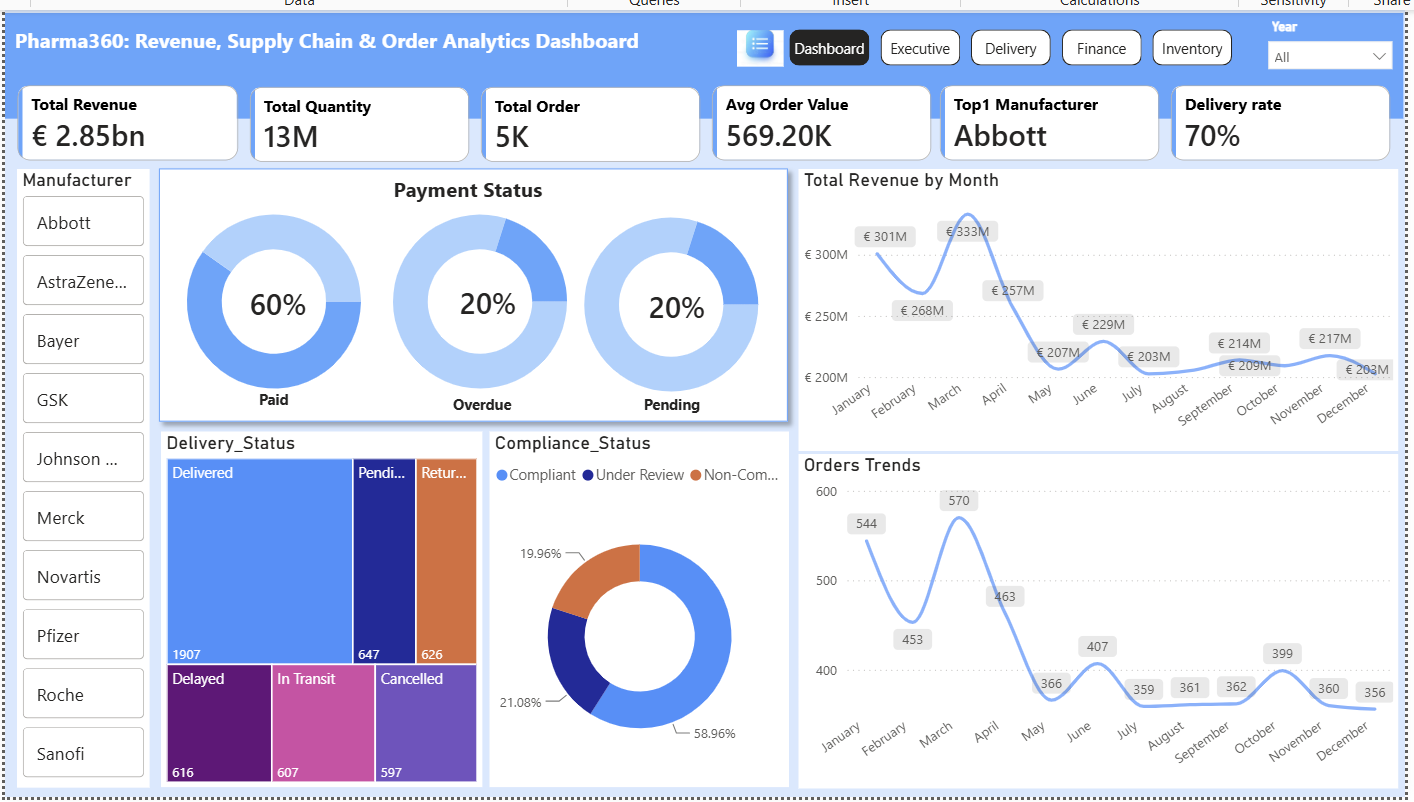

This screenshot's page, from the dashboard's own definition file:
{"tool":"powerbi","page":{"name":"Dashboard","canvas":[1280,720],"ordinal":0},"visuals":[{"type":"textbox","box":[0,3,1279.5,96.9],"z":0},{"type":"cardVisual","fields":{"Data":["Messures.Total Sales"]},"box":[0,57.5,224.6,91],"z":1000},{"type":"shape","box":[131.7,136.3,593.6,249.8],"z":2000},{"type":"donutChart","fields":{"Y":["Messures.total paid","Messures._other paid"]},"box":[98.4,162,293.8,209],"z":3000},{"type":"cardVisual","fields":{"Data":["Messures.Total Quantity"]},"box":[212.1,58.9,223.8,91],"z":4000},{"type":"donutChart","fields":{"Y":["Messures._other due","Messures.Total overdue"]},"box":[274.1,162,319.5,209],"z":5000},{"type":"textbox","box":[184.7,342.2,121.1,28.8],"z":6000},{"type":"cardVisual","fields":{"Data":["Messures.Total Order"]},"box":[424.3,58.9,223.8,91],"z":7000},{"type":"cardVisual","fields":{"Data":["Messures.% of paid"]},"box":[195.3,198.4,157.5,136.3],"z":8000},{"type":"textbox","box":[375.5,345.2,121.1,28.8],"z":9000},{"type":"cardVisual","fields":{"Data":["Messures.Avg Order Value"]},"box":[634.7,57.5,223.8,91],"z":10000},{"type":"cardVisual","fields":{"Data":["Messures.% of overdue"]},"box":[387.6,218,148.4,96.9],"z":11000},{"type":"donutChart","fields":{"Y":["Messures._other pending","Messures.total pending"]},"box":[457.3,165,304.4,209],"z":12000},{"type":"cardVisual","fields":{"Data":["Messures.dly rate"]},"box":[1055.7,57.5,223.8,91],"z":13000},{"type":"cardVisual","fields":{"Data":["Messures.% of pending"]},"box":[560.3,216.5,140.8,107.5],"z":14000},{"type":"textbox","box":[549.7,345.2,119.6,28.8],"z":15000},{"type":"cardVisual","fields":{"Data":["Messures.Top1 Manufacturer"]},"box":[843.5,57.5,223.8,91],"z":16000},{"type":"textbox","box":[311.9,145.4,224.1,36.3],"z":17000},{"type":"advancedSlicerVisual","fields":{"Values":["Pharma_Healthcare_Logistics_Dataset.Manufacturer"]},"box":[10.6,145.4,121.1,566.3],"z":18000},{"type":"lineChart","title":"Total Revenue by Month","fields":{"Category":["Pharma_Healthcare_Logistics_Dataset.Order_Date.Variation.Date Hierarchy.Month"],"Y":["Messures.Total Sales"]},"box":[726,145.5,548.9,258],"z":19000},{"type":"donutChart","title":"Compliance_Status","fields":{"Category":["Pharma_Healthcare_Logistics_Dataset.Compliance_Status"],"Y":["Messures.Total Order"]},"box":[443.7,386.1,274.1,325.6],"z":20000},{"type":"treemap","title":"Delivery_Status","fields":{"Group":["Pharma_Healthcare_Logistics_Dataset.Delivery_Status"],"Values":["Messures.Total Order"]},"box":[142.3,386.1,293.8,325.6],"z":21000},{"type":"lineChart","title":"Orders Trends","fields":{"Y":["Messures.Total Order"],"Category":["Pharma_Healthcare_Logistics_Dataset.Order_Date.Variation.Date Hierarchy.Year","Pharma_Healthcare_Logistics_Dataset.Order_Date.Variation.Date Hierarchy.Quarter","Pharma_Healthcare_Logistics_Dataset.Order_Date.Variation.Date Hierarchy.Month","Pharma_Healthcare_Logistics_Dataset.Order_Date.Variation.Date Hierarchy.Day"]},"box":[726,406.2,548.9,306],"z":22000},{"type":"slicer","fields":{"Values":["Pharma_Healthcare_Logistics_Dataset.Order_Date.Variation.Date Hierarchy.Year"]},"box":[1146.3,3,133.3,57.5],"z":23000},{"type":"pageNavigator","box":[717.7,18.2,405.8,33.3],"z":24000},{"type":"image","box":[669.3,18.2,42.4,34.8],"z":25000}]}

Visuals, with their boxes on the page's 1280x720 design canvas (x1, y1, x2, y2). These are canvas units, not pixel positions in the 1414x802 screenshot, which may show the page scaled, cropped or inside an application window:
textbox: locate(0, 3, 1280, 100)
cardVisual - Messures.Total Sales: locate(0, 58, 225, 148)
shape: locate(132, 136, 725, 386)
donutChart - Messures.total paid x Messures._other paid: locate(98, 162, 392, 371)
cardVisual - Messures.Total Quantity: locate(212, 59, 436, 150)
donutChart - Messures._other due x Messures.Total overdue: locate(274, 162, 594, 371)
textbox: locate(185, 342, 306, 371)
cardVisual - Messures.Total Order: locate(424, 59, 648, 150)
cardVisual - Messures.% of paid: locate(195, 198, 353, 335)
textbox: locate(376, 345, 497, 374)
cardVisual - Messures.Avg Order Value: locate(635, 58, 858, 148)
cardVisual - Messures.% of overdue: locate(388, 218, 536, 315)
donutChart - Messures._other pending x Messures.total pending: locate(457, 165, 762, 374)
cardVisual - Messures.dly rate: locate(1056, 58, 1280, 148)
cardVisual - Messures.% of pending: locate(560, 216, 701, 324)
textbox: locate(550, 345, 669, 374)
cardVisual - Messures.Top1 Manufacturer: locate(844, 58, 1067, 148)
textbox: locate(312, 145, 536, 182)
advancedSlicerVisual - Pharma_Healthcare_Logistics_Dataset.Manufacturer: locate(11, 145, 132, 712)
"Total Revenue by Month" lineChart: locate(726, 146, 1275, 404)
"Compliance_Status" donutChart: locate(444, 386, 718, 712)
"Delivery_Status" treemap: locate(142, 386, 436, 712)
"Orders Trends" lineChart: locate(726, 406, 1275, 712)
slicer - Pharma_Healthcare_Logistics_Dataset.Order_Date.Variation.Date Hierarchy.Year: locate(1146, 3, 1280, 60)
pageNavigator: locate(718, 18, 1124, 52)
image: locate(669, 18, 712, 53)
